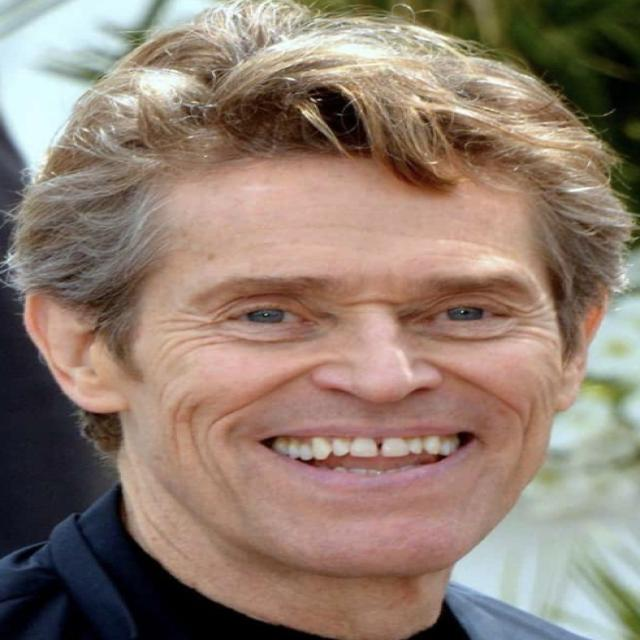happy: (65, 9, 613, 580)
